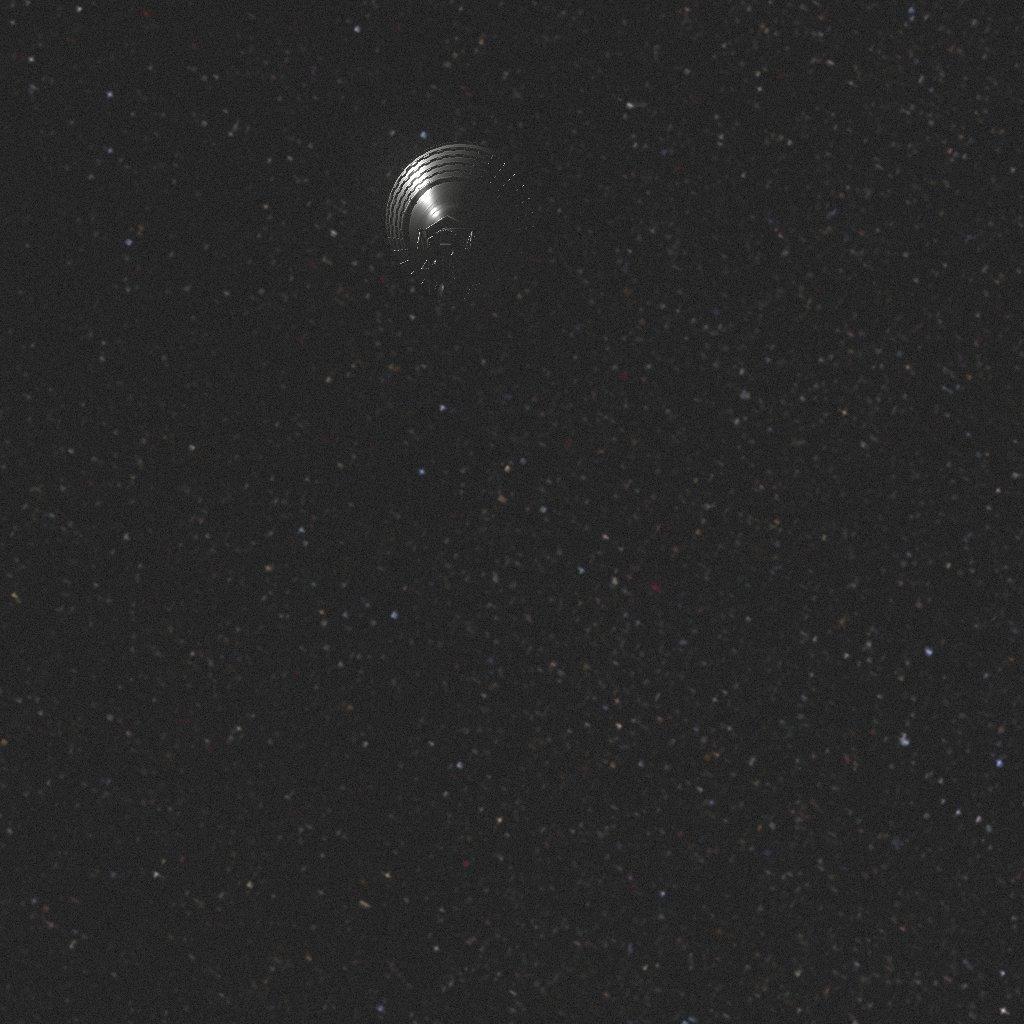debris: (385, 142, 539, 306)
